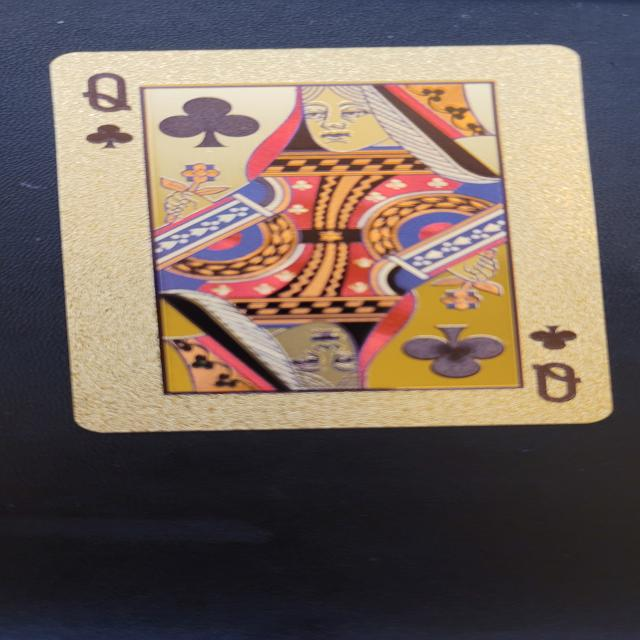Queen of clubs: (50, 45, 613, 431)
